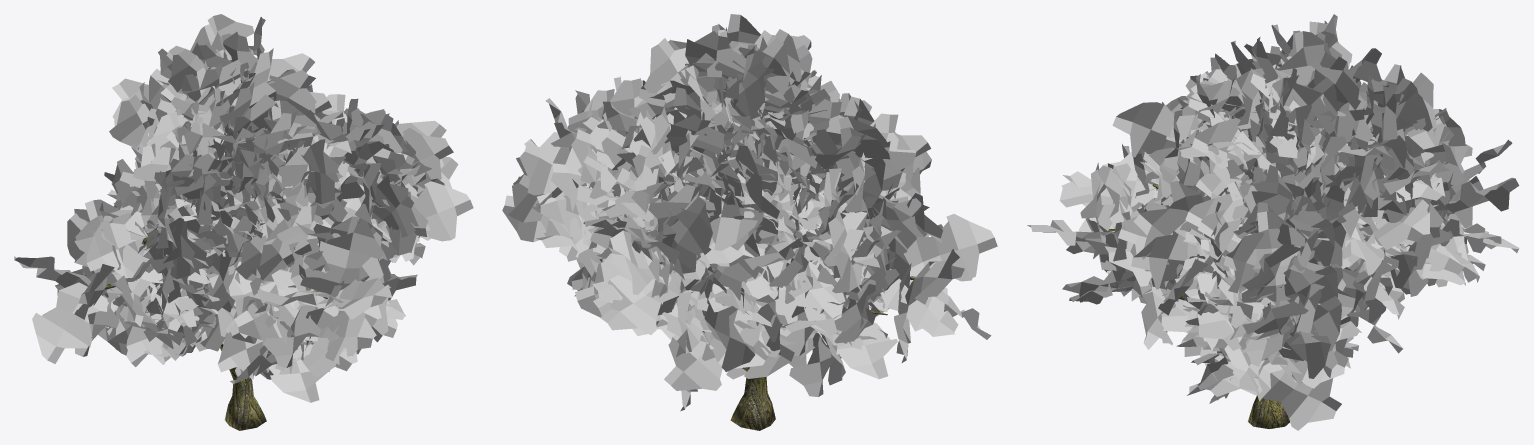
Rendered from treetest.fbx.
The picture shows the model from 3 angles, left to right: view 1: azimuth 30°, elevation 25°; view 2: azimuth 150°, elevation 25°; view 3: azimuth 270°, elevation 25°; orthographic projection. The views are drawn at different scales.
Parts seen in each view (by area): view 1: Tree Branch.114, Tree Branch.796, Tree Branch.817, Tree Branch.830, Tree Branch.453, Tree Branch.812, Plane, Tree Branch.695, Tree Branch.794, Tree Branch.259, Tree Branch.792, Tree Branch.822 (+71 smaller); view 2: Tree Branch.304, Tree Branch.787, Tree Branch.785, Tree Branch.897, Tree Branch.298, Tree Branch.872, Tree Branch.365, Plane, Tree Branch.267, Tree Branch.492, Tree Branch.291, Tree Branch.784 (+93 smaller); view 3: Tree Branch.695, Tree Branch.522, Tree Branch.271, Tree Branch.802, Tree Branch.338, Tree Branch.515, Tree Branch.762, Tree Branch.478, Tree Branch.267, Tree Branch.812, Tree Branch.546, Tree Branch.654 (+88 smaller).
Part boxes in pixels (box(x1,y1,x2,y2)): Tree Branch.114: box(32, 282, 117, 363); Tree Branch.796: box(300, 216, 383, 294); Tree Branch.817: box(402, 181, 473, 261); Tree Branch.830: box(292, 310, 376, 364); Tree Branch.453: box(86, 211, 149, 278); Tree Branch.812: box(371, 175, 418, 259); Plane: box(105, 237, 327, 430); Tree Branch.695: box(285, 139, 339, 206); Tree Branch.794: box(303, 278, 392, 319); Tree Branch.259: box(400, 127, 453, 188); Tree Branch.792: box(263, 295, 338, 367); Tree Branch.822: box(250, 233, 329, 281); Tree Branch.304: box(904, 214, 997, 298); Tree Branch.787: box(600, 250, 681, 334); Tree Branch.785: box(670, 196, 712, 273); Tree Branch.897: box(664, 335, 722, 390); Tree Branch.298: box(880, 269, 958, 336); Tree Branch.872: box(702, 279, 755, 371); Tree Branch.365: box(836, 307, 897, 379); Plane: box(730, 276, 915, 430); Tree Branch.267: box(519, 132, 569, 195); Tree Branch.492: box(685, 31, 746, 102); Tree Branch.291: box(788, 260, 848, 320); Tree Branch.784: box(608, 230, 671, 294); Tree Branch.695: box(1112, 102, 1199, 157); Tree Branch.522: box(1262, 369, 1341, 430); Tree Branch.271: box(1241, 211, 1305, 302); Tree Branch.802: box(1131, 230, 1198, 289); Tree Branch.338: box(1263, 292, 1341, 360); Tree Branch.515: box(1285, 77, 1337, 134); Tree Branch.762: box(1357, 199, 1430, 249); Tree Branch.478: box(1274, 31, 1341, 85); Tree Branch.267: box(1284, 255, 1337, 310); Tree Branch.812: box(1133, 208, 1189, 287); Tree Branch.546: box(1224, 345, 1282, 401); Tree Branch.654: box(1367, 90, 1432, 136).
Size of what is drawn, in the model's own units: 1368 by 1190 by 1303.
